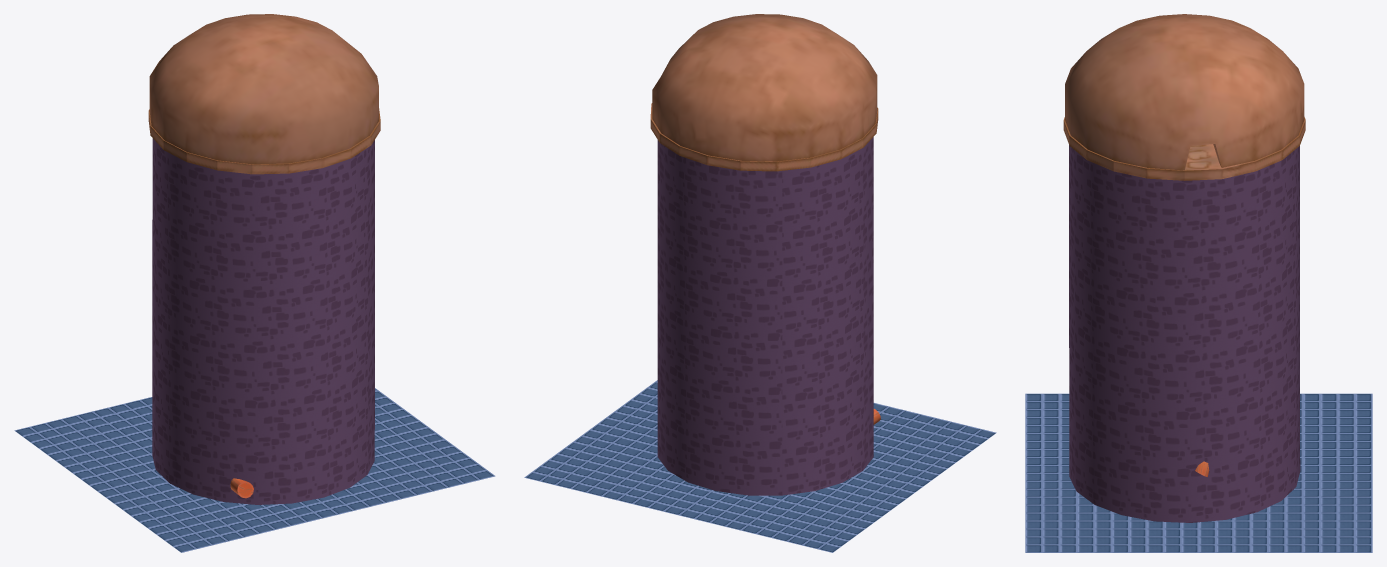
The picture shows the model from 3 angles, left to right: view 1: azimuth 30°, elevation 25°; view 2: azimuth 150°, elevation 25°; view 3: azimuth 270°, elevation 25°; orthographic projection. The views are drawn at different scales.
Visible parts, largest first — view 1: Scena, Pod; view 2: Scena, Pod; view 3: Scena, Pod.
Part boxes in pixels (<box>): Scena: <box>148,14,380,504</box>; Pod: <box>14,388,495,552</box>; Scena: <box>650,14,880,495</box>; Pod: <box>524,380,996,552</box>; Scena: <box>1063,14,1305,522</box>; Pod: <box>1025,393,1372,552</box>.
Size of what is drawn, in the model's own units: 0.2998 by 0.3996 by 0.2763.
Materials: 33 (32 with a texture image).
